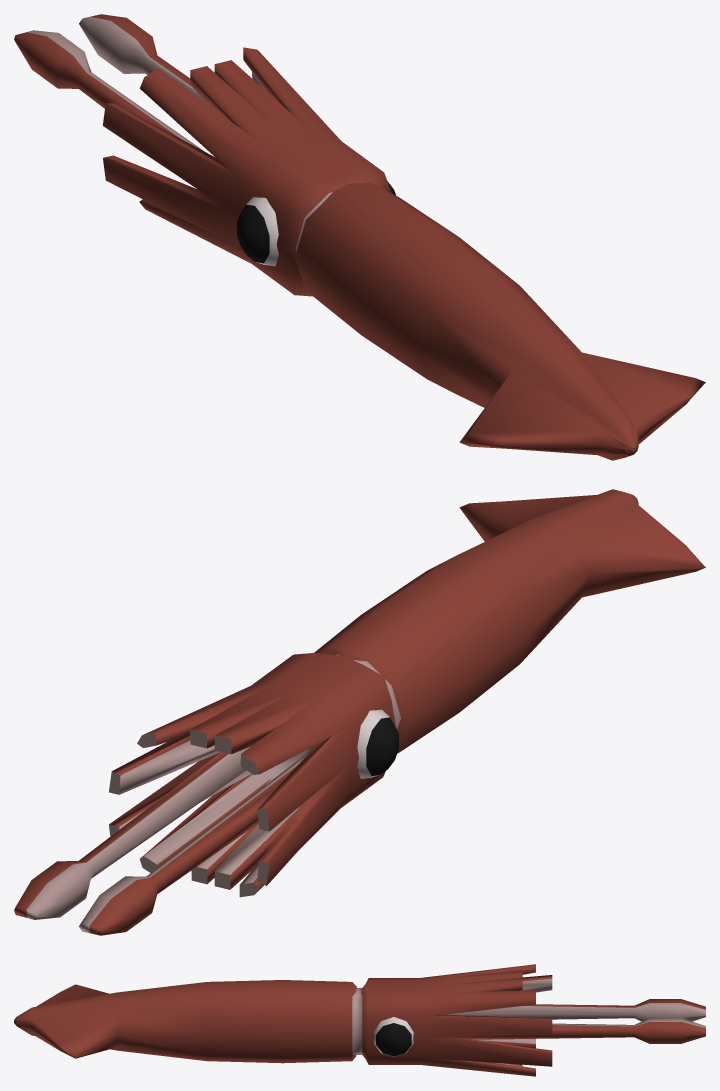
The model's file is squid.fbx.
3 renders of one model, top to bottom at view 1: azimuth 30°, elevation 25°; view 2: azimuth 150°, elevation 25°; view 3: azimuth 270°, elevation 25°, orthographic. The views are drawn at different scales.
Parts seen in each view (by area): view 1: pCylinder1, pSphere2; view 2: pCylinder1, pSphere2; view 3: pCylinder1, pSphere1.
Boxes of the visible parts, x1,y1,x2,y2 form: pCylinder1: (14, 14, 705, 460); pSphere2: (237, 197, 278, 266); pCylinder1: (14, 489, 705, 935); pSphere2: (357, 709, 398, 778); pCylinder1: (14, 964, 705, 1076); pSphere1: (374, 1017, 413, 1056).
Bounding box in the file's own units: 15.72 × 9.18 × 63.55.
